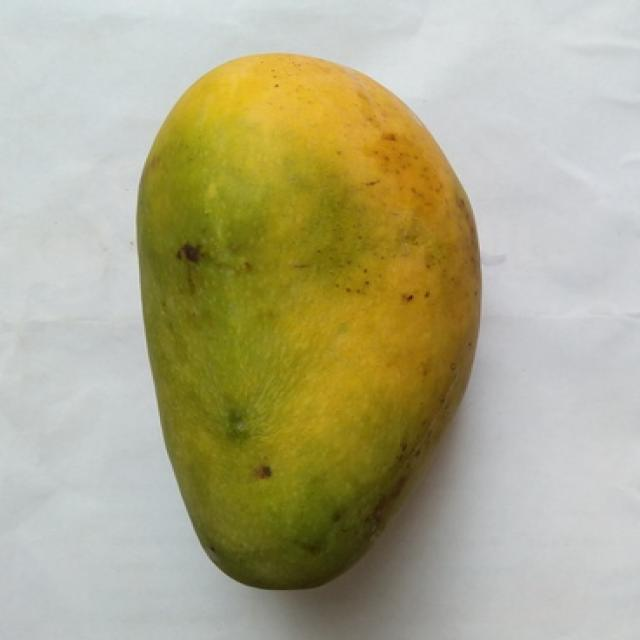Mango: (137, 54, 480, 589)
